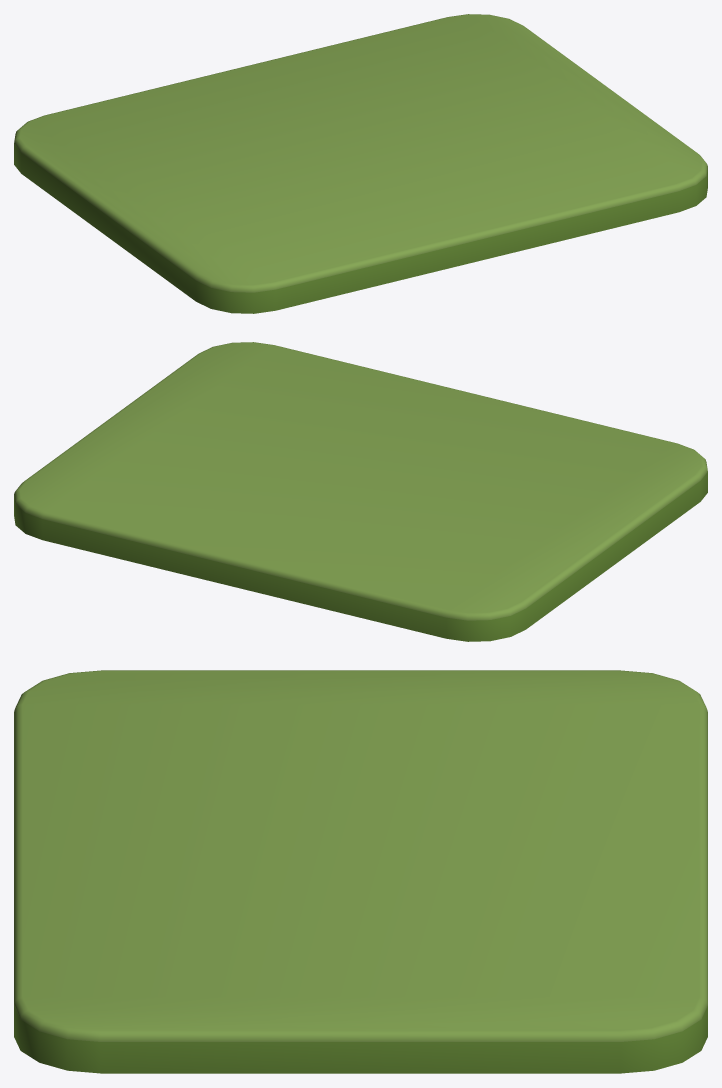
The model's file is itch_tiny_homely_house_floor_base.glb.
3 views of the same model, one above another, from view 1: azimuth 30°, elevation 25°; view 2: azimuth 150°, elevation 25°; view 3: azimuth 270°, elevation 25° (orthographic). The views are drawn at different scales.
Visible parts, largest first — view 1: floor_base; view 2: floor_base; view 3: floor_base.
Part boxes in pixels (x1,y1,x2,y2): floor_base: [14, 14, 707, 313]; floor_base: [14, 342, 707, 641]; floor_base: [14, 670, 707, 1073].
Bounding box in the file's own units: 1.52 × 0.076 × 1.22.
